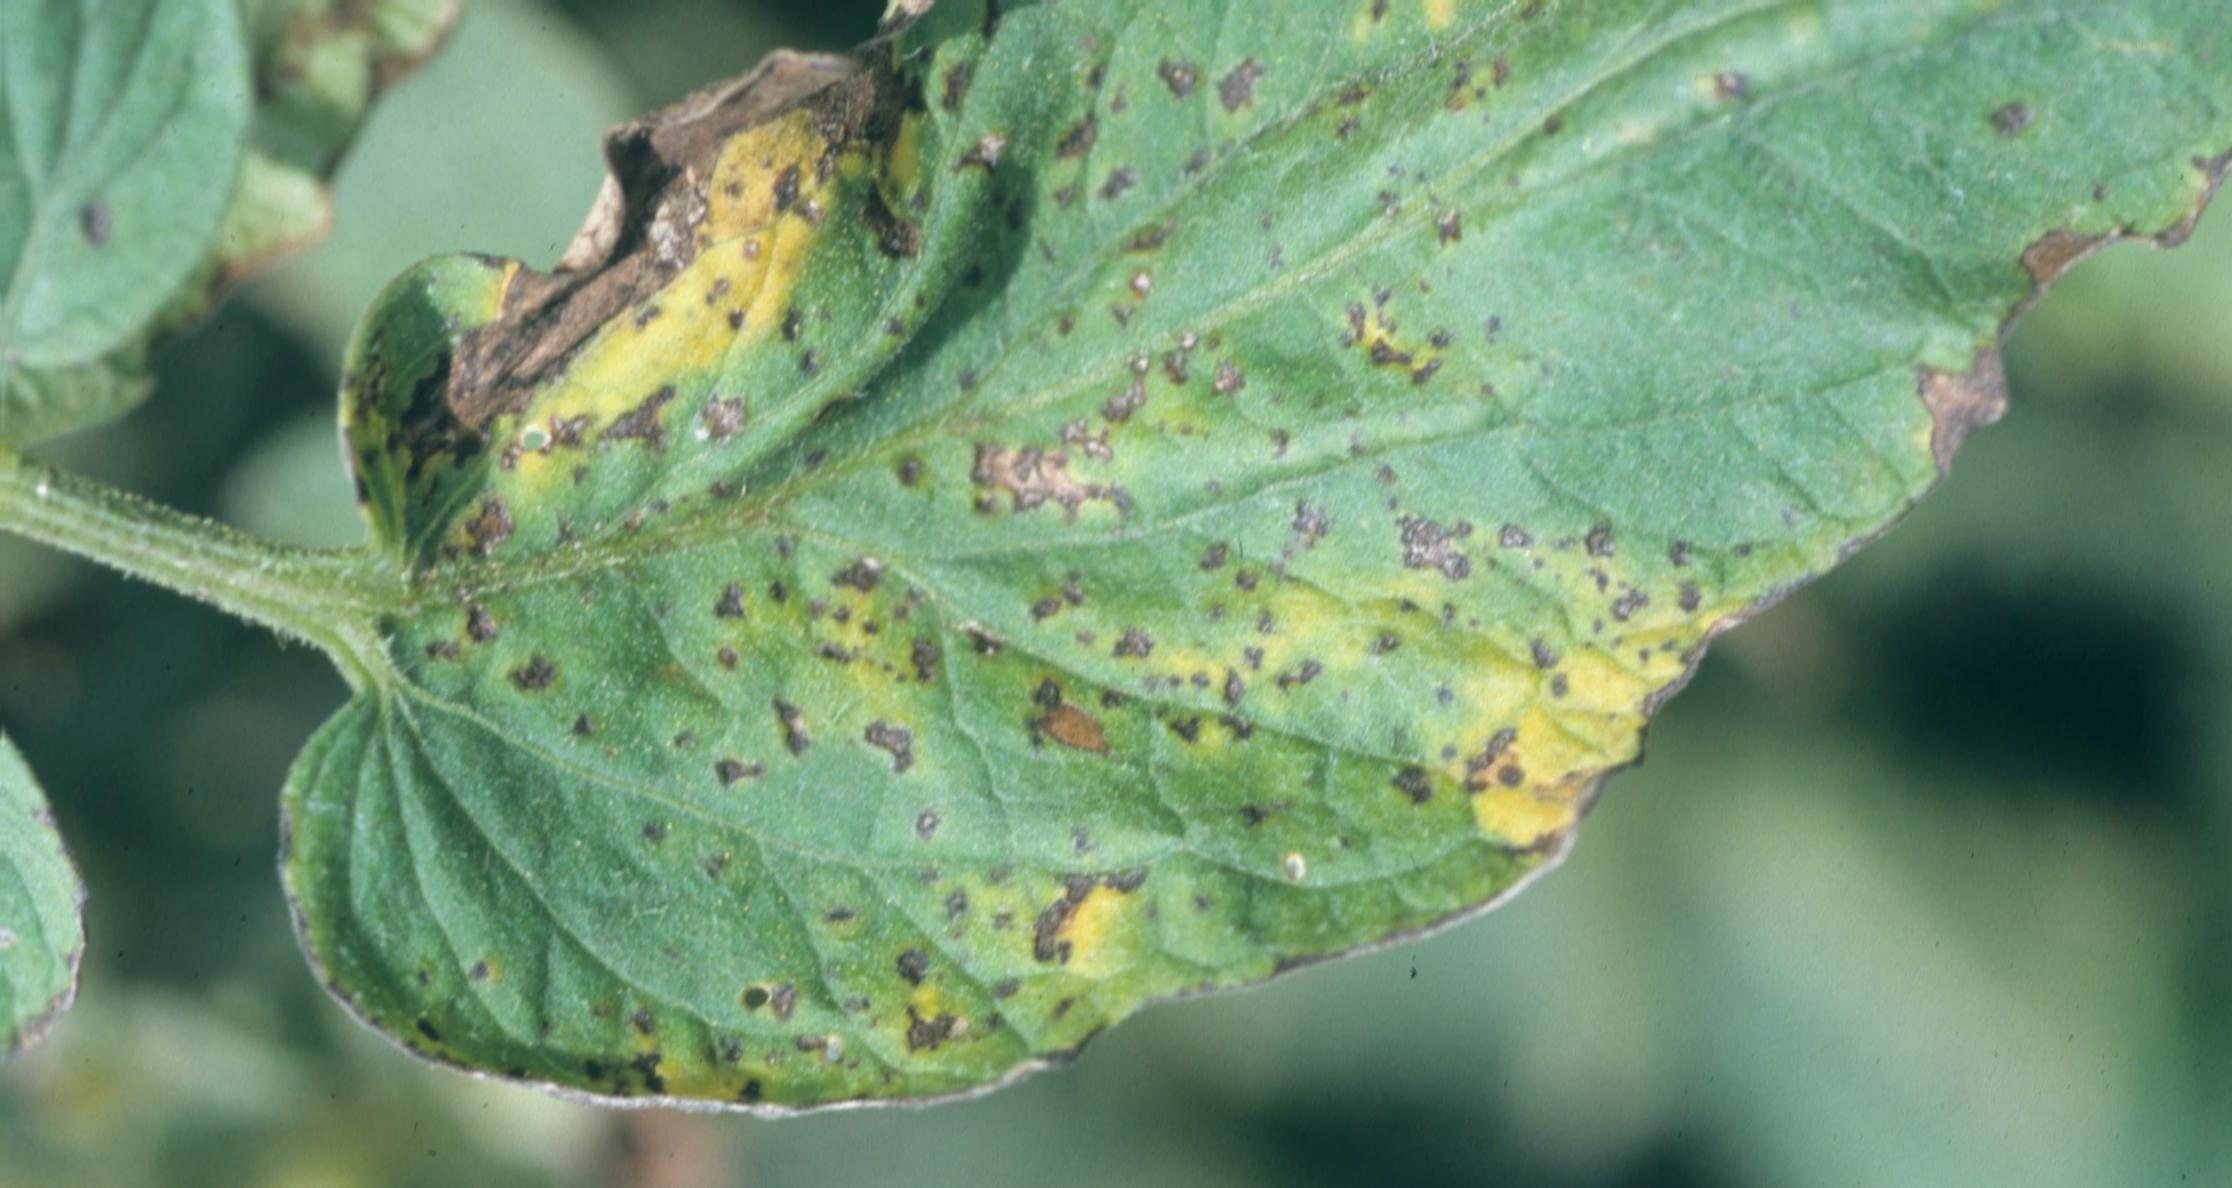Tomato leaf bacterial spot: (111, 0, 2232, 1139)
